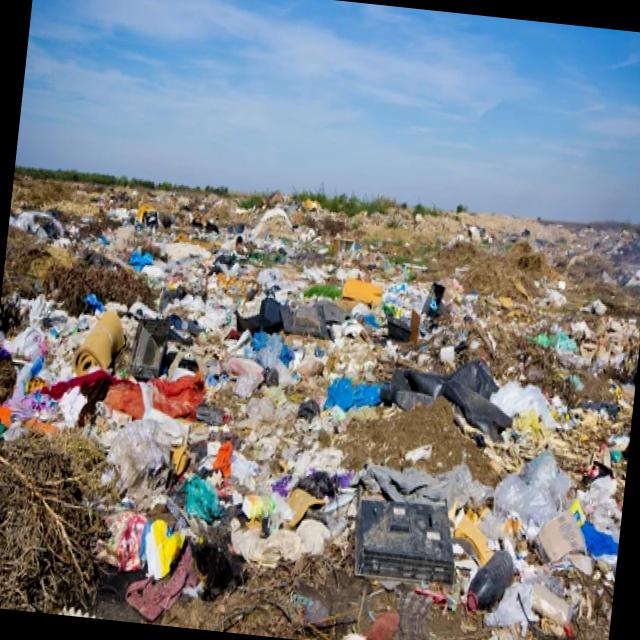garbage: (64, 141, 588, 640)
